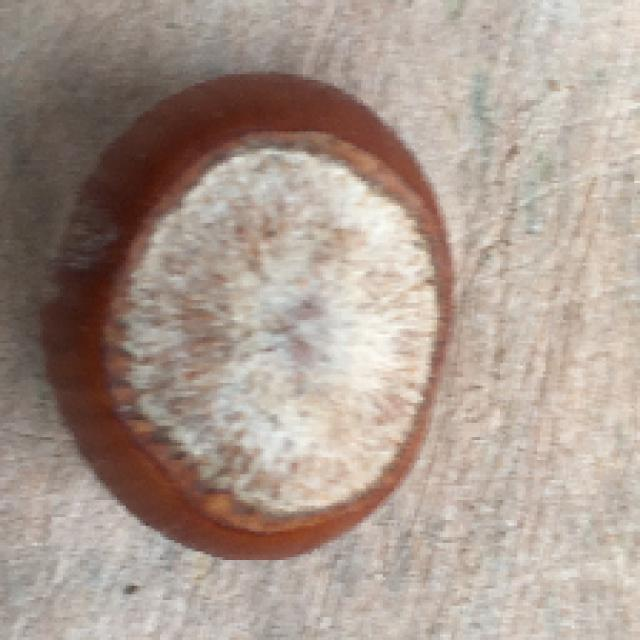qualityHazelnut: (37, 69, 463, 562)
